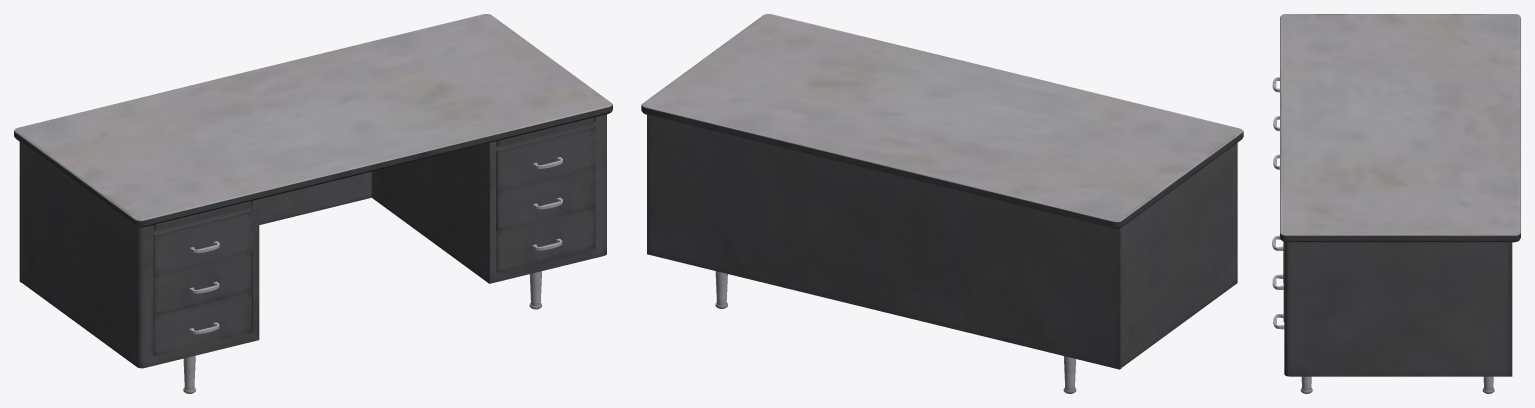
Rendered from metal_office_desk.gltf.
The picture shows the model from 3 angles, left to right: view 1: azimuth 30°, elevation 25°; view 2: azimuth 150°, elevation 25°; view 3: azimuth 270°, elevation 25°; orthographic projection. The views are drawn at different scales.
Visible parts, largest first — view 1: metal_office_desk, metal_office_desk_drawer_04, metal_office_desk_drawer_01, metal_office_desk_drawer_02, metal_office_desk_drawer_03, metal_office_desk_drawer_06, metal_office_desk_drawer_05, metal_office_desk_tray_01, metal_office_desk_tray_02; view 2: metal_office_desk; view 3: metal_office_desk.
Boxes of the visible parts, x1,y1,x2,y2 form: metal_office_desk: (14, 14, 612, 393); metal_office_desk_drawer_04: (153, 210, 252, 275); metal_office_desk_drawer_01: (496, 126, 595, 191); metal_office_desk_drawer_02: (496, 167, 595, 231); metal_office_desk_drawer_03: (496, 208, 594, 272); metal_office_desk_drawer_06: (153, 292, 251, 356); metal_office_desk_drawer_05: (153, 252, 251, 315); metal_office_desk_tray_01: (153, 201, 251, 230); metal_office_desk_tray_02: (496, 117, 594, 146); metal_office_desk: (641, 14, 1243, 393); metal_office_desk: (1280, 14, 1520, 393).
Bounding box in the file's own units: 2 × 0.7875 × 0.9472.
Materials: 1 (1 with a texture image).
